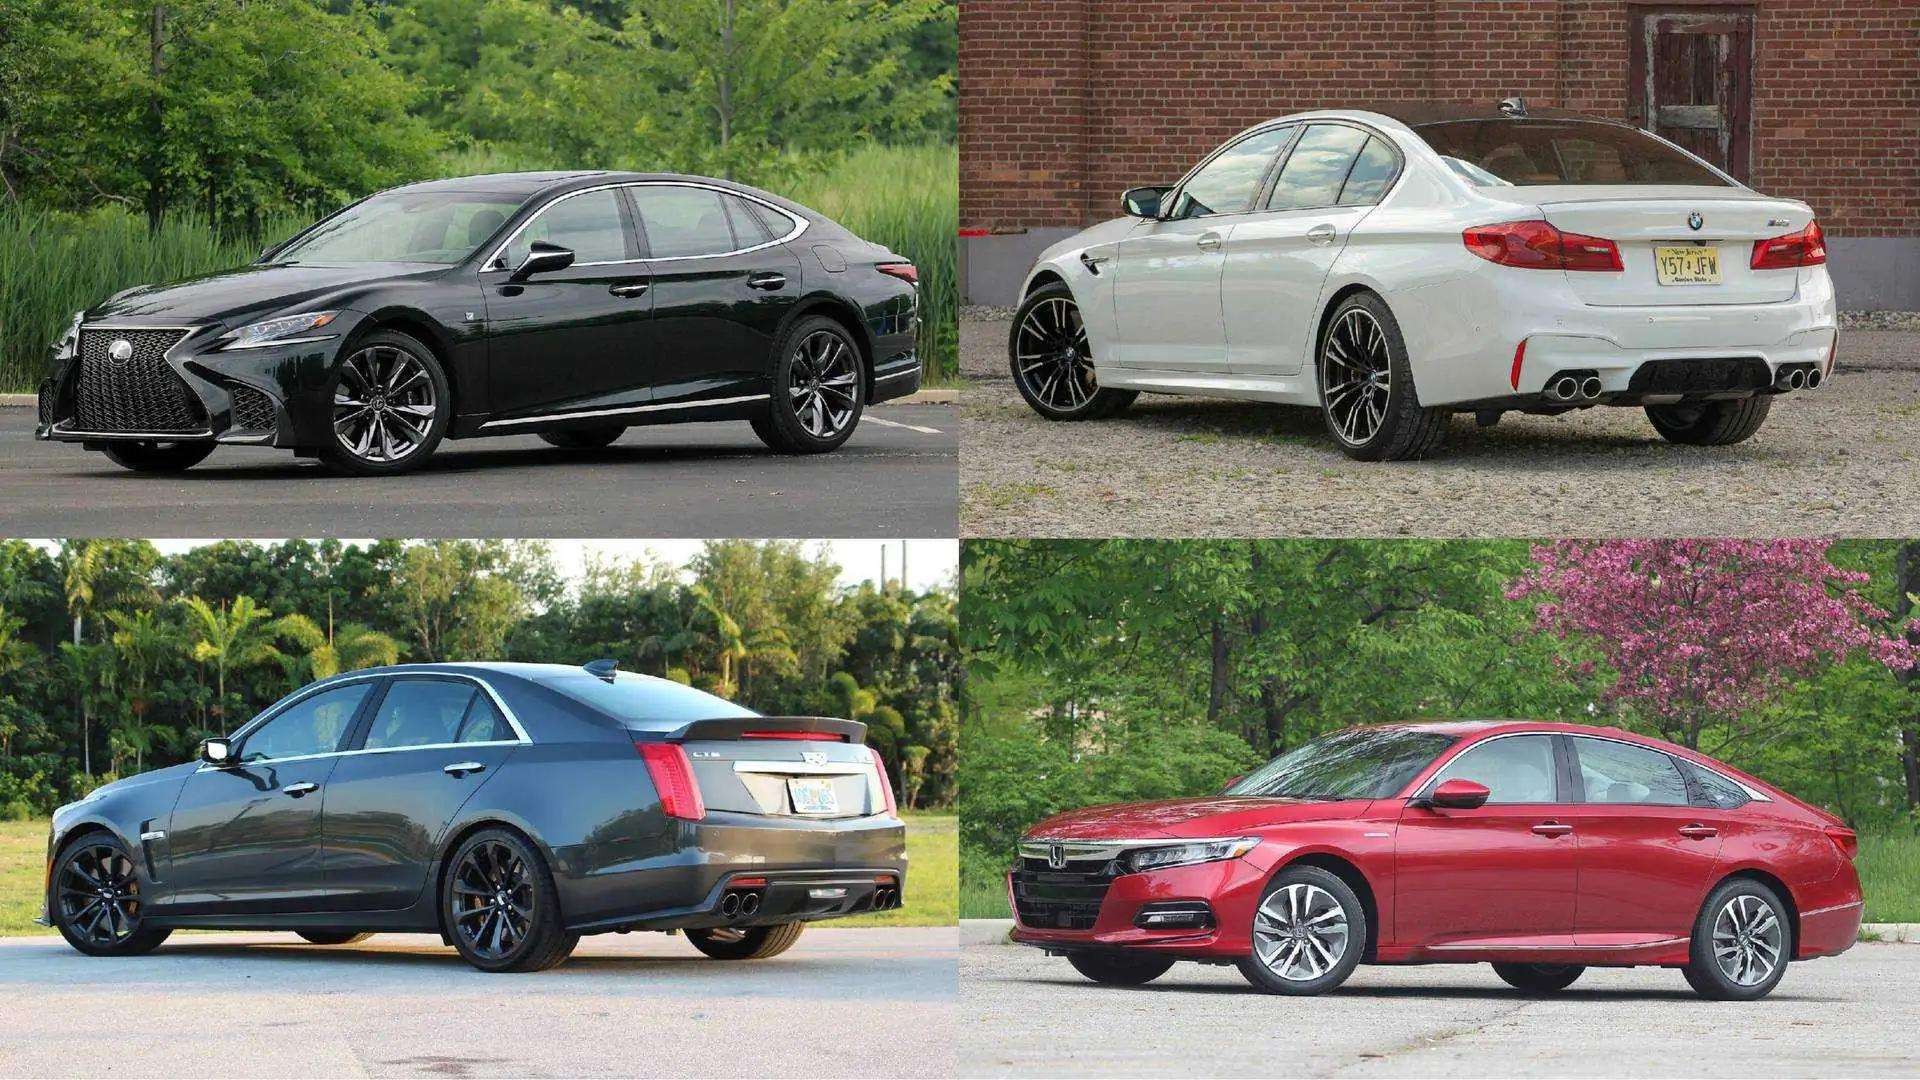car: (1004, 94, 1855, 487), (28, 646, 938, 994), (26, 156, 936, 493), (994, 709, 1884, 1021)
